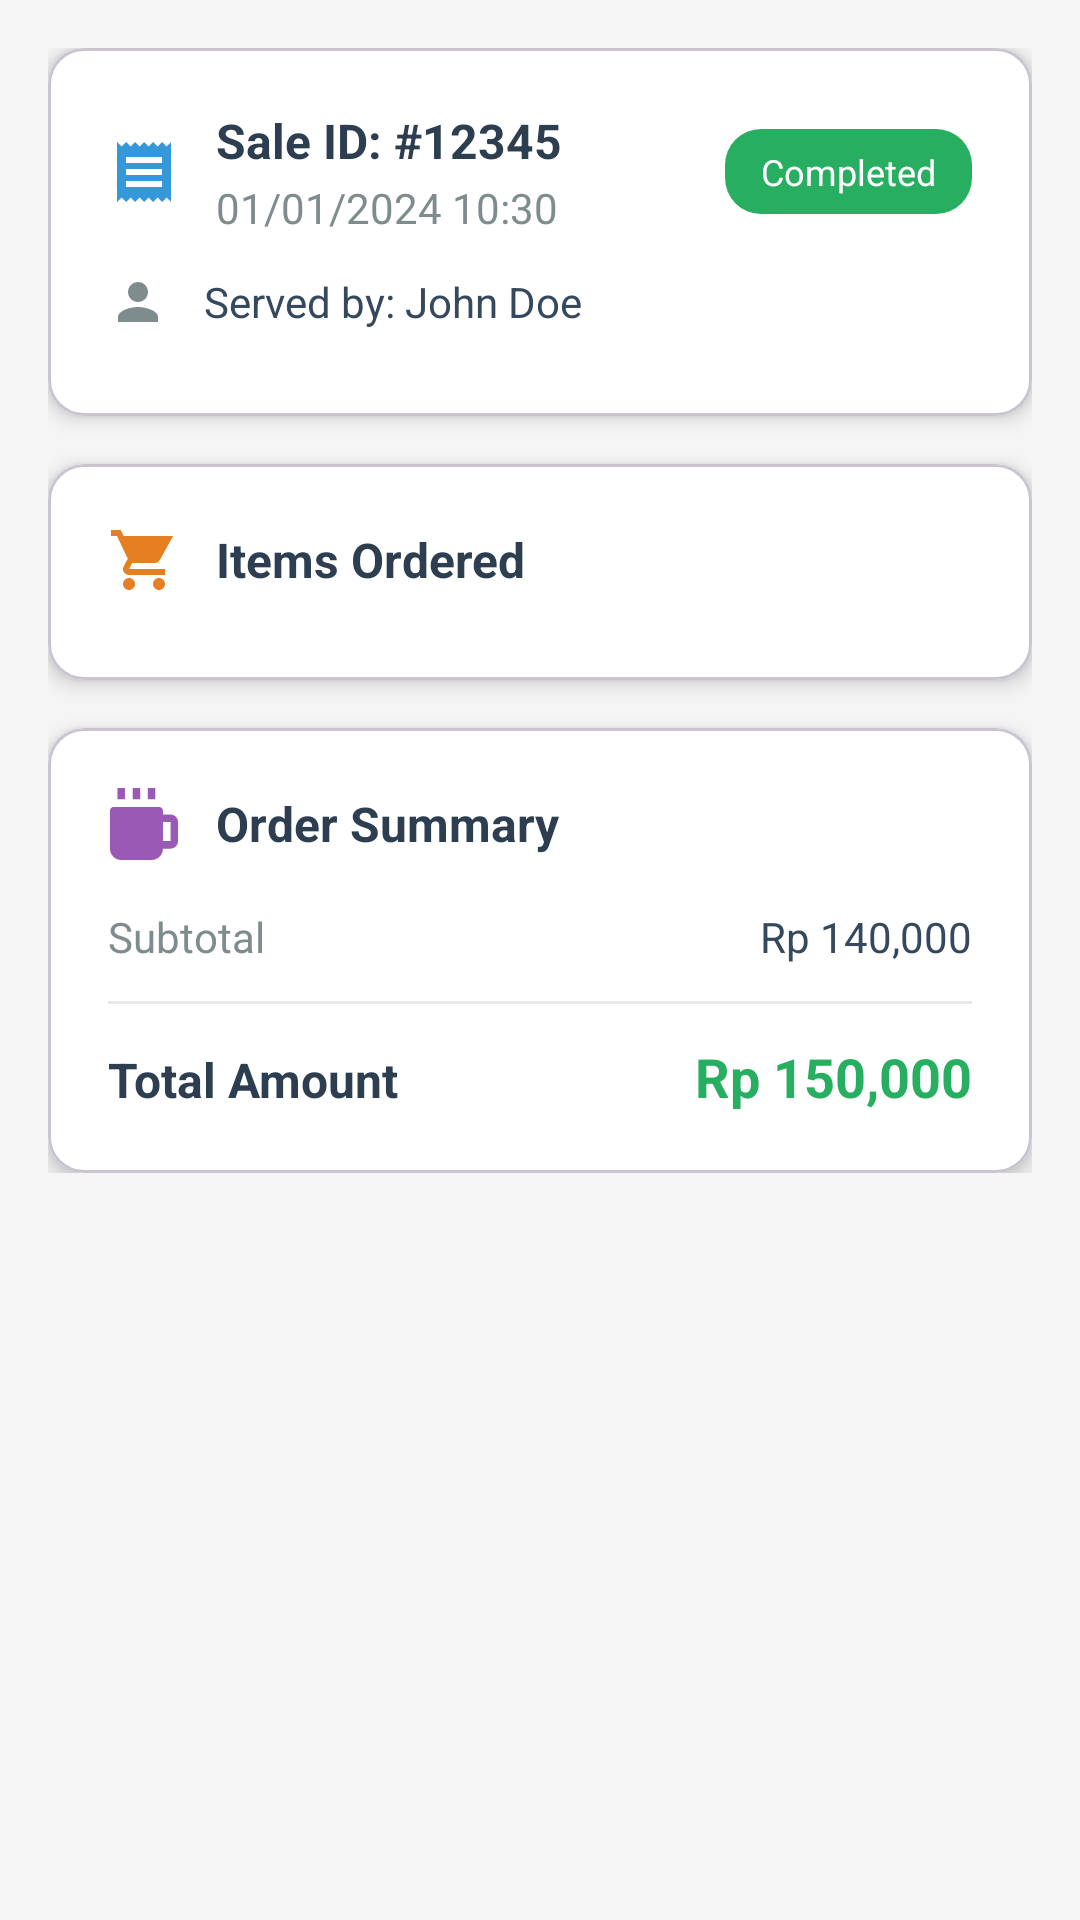

Point at icon controls on the screen. Image size 1080px×1920px, points as point (x, y).
person: point (138, 302)
receipt: point (144, 172)
shopping cart: point (142, 560)
